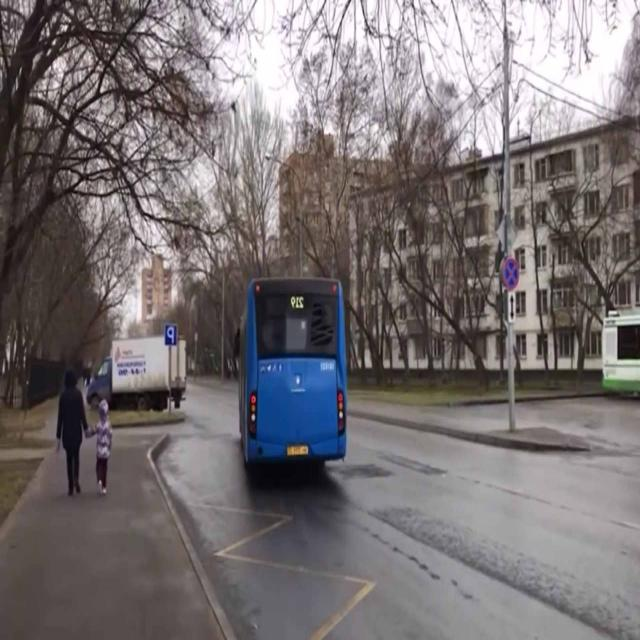bus: (227, 267, 355, 476)
